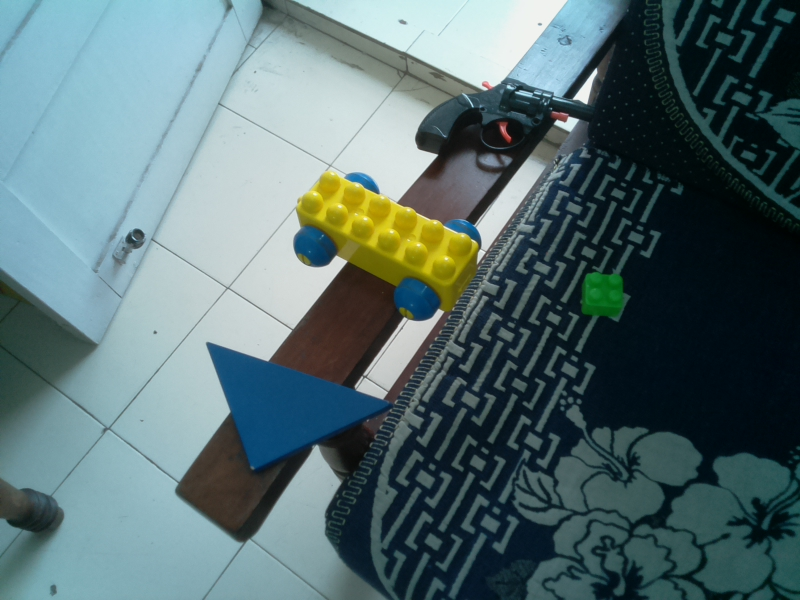Gun: (413, 77, 601, 159)
Triangle: (203, 340, 396, 474)
toy_Car: (290, 167, 483, 322)
